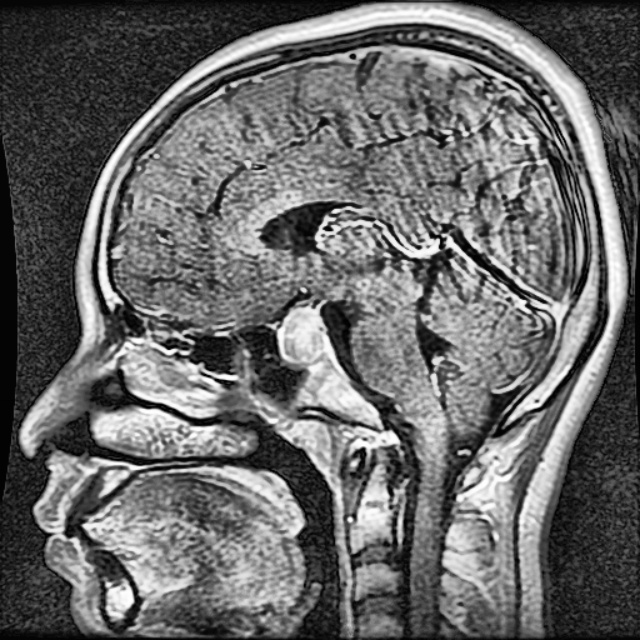Pituitary: (278, 307, 327, 363)
